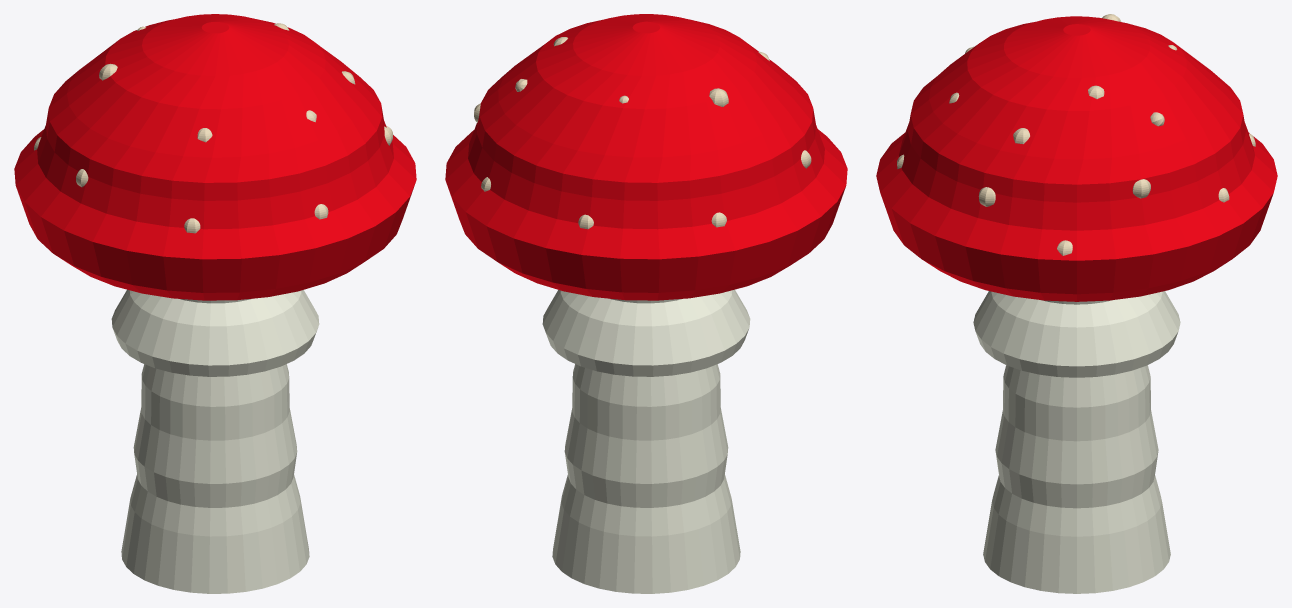
Rendered from Mushroom.fbx.
The picture shows the model from 3 angles, left to right: view 1: azimuth 30°, elevation 25°; view 2: azimuth 150°, elevation 25°; view 3: azimuth 270°, elevation 25°; orthographic projection.
Parts seen in each view (by area): view 1: Cylinder; view 2: Cylinder; view 3: Cylinder.
Part boxes in pixels (bbox=[...]): Cylinder: bbox=[14, 14, 416, 593]; Cylinder: bbox=[445, 14, 847, 593]; Cylinder: bbox=[876, 14, 1277, 593].
Bounding box in the file's own units: 158 × 228 × 158.
